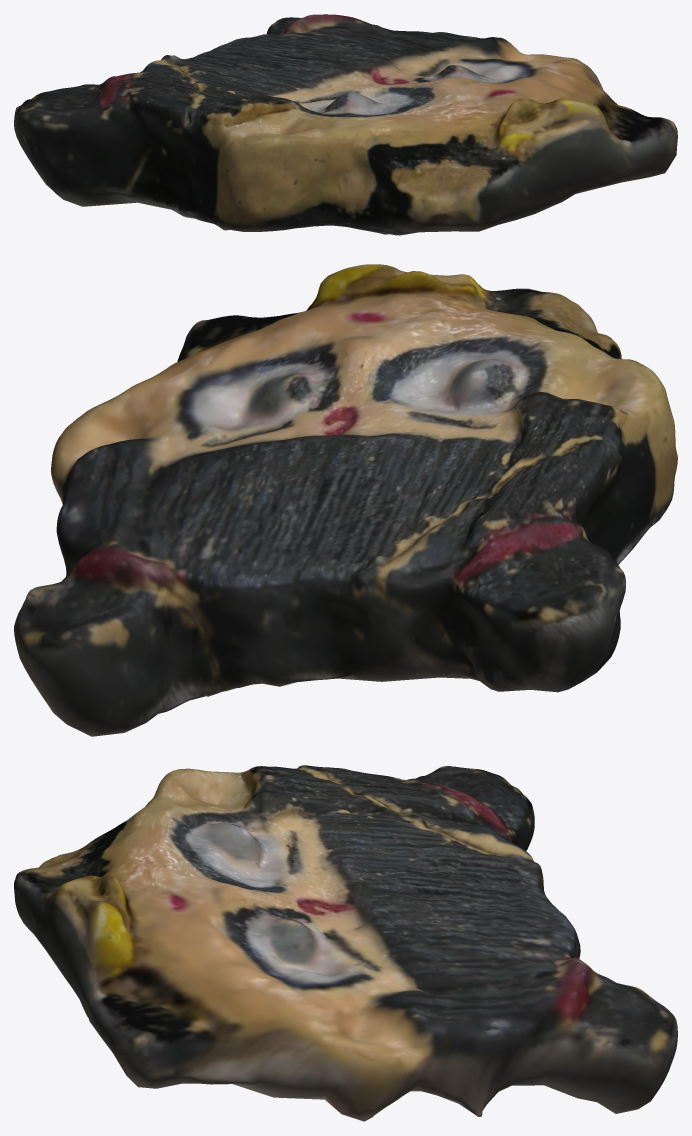
The picture shows the model from 3 angles, top to bottom: view 1: azimuth 30°, elevation 25°; view 2: azimuth 150°, elevation 25°; view 3: azimuth 270°, elevation 25°; orthographic projection. The views are drawn at different scales.
Bounding box in the file's own units: 0.5395 × 0.2079 × 0.5702.
1 material, 1 textured.
